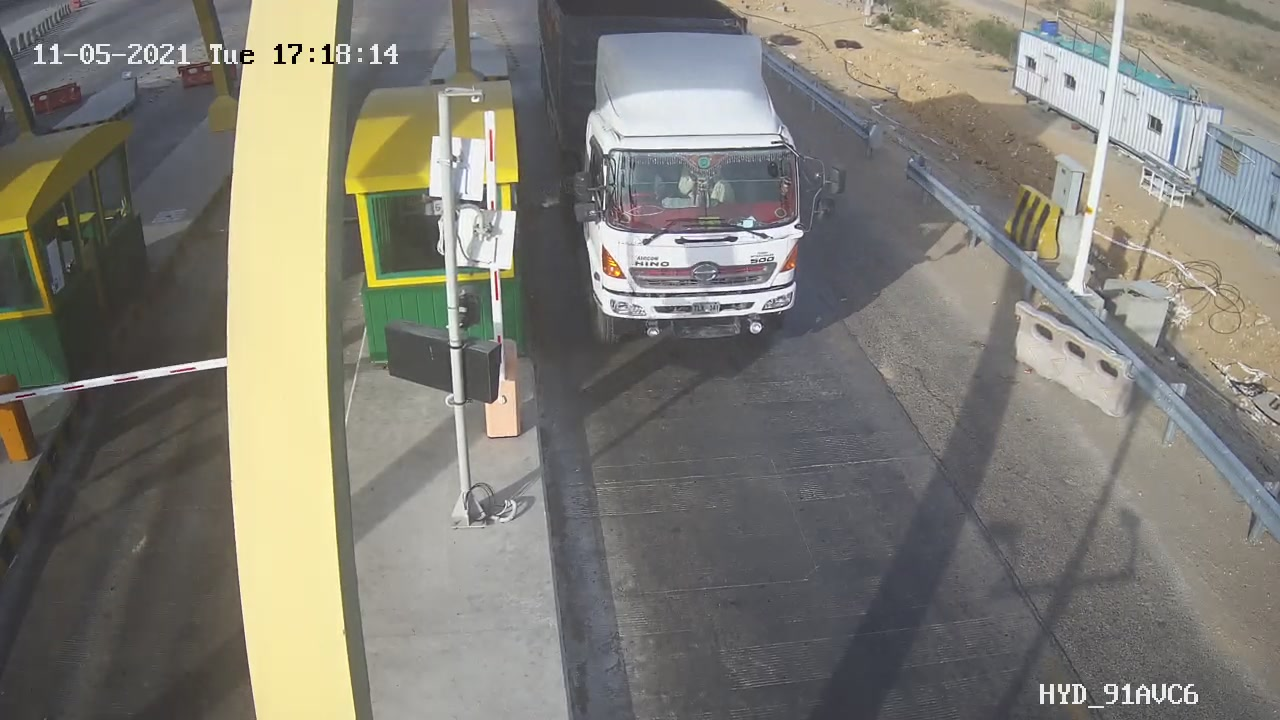F6: (525, 1, 865, 362)
